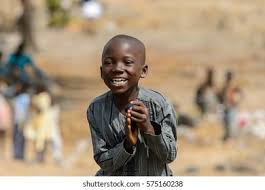person: (100, 34, 150, 97)
